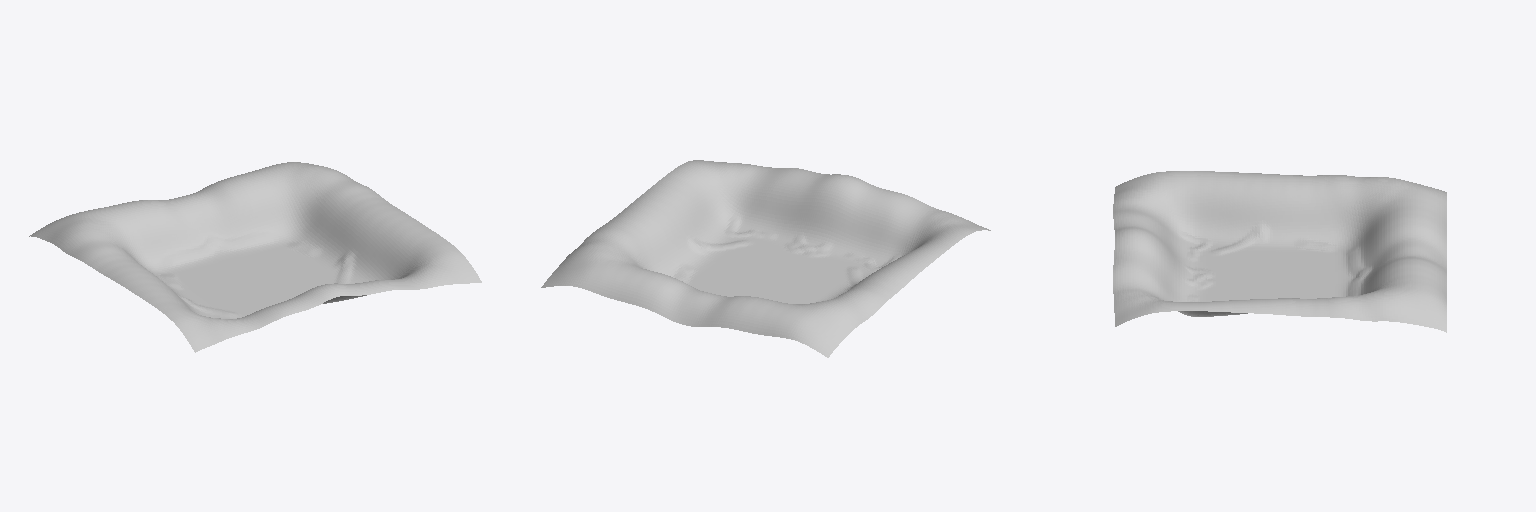
Rendered from terrain.obj.
3 views of the same model, side by side, from view 1: azimuth 30°, elevation 25°; view 2: azimuth 150°, elevation 25°; view 3: azimuth 270°, elevation 25° (orthographic).
Visible parts, largest first — view 1: Plane; view 2: Plane; view 3: Plane.
Boxes of the visible parts, <box> form: Plane: <box>29,162,481,352</box>; Plane: <box>541,160,990,357</box>; Plane: <box>1113,171,1446,332</box>.
Size of the model in its own units: 66.19 by 10.07 by 65.54.